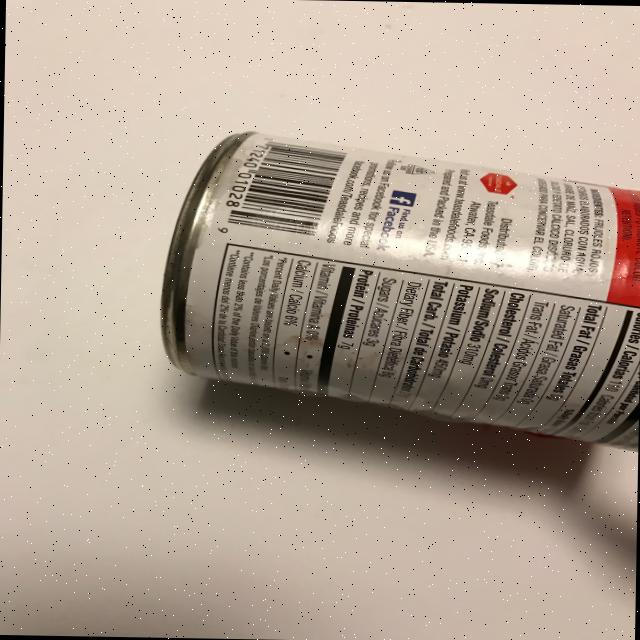metal: (157, 128, 640, 453)
